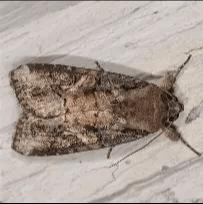army worm adult: (7, 51, 202, 160)
